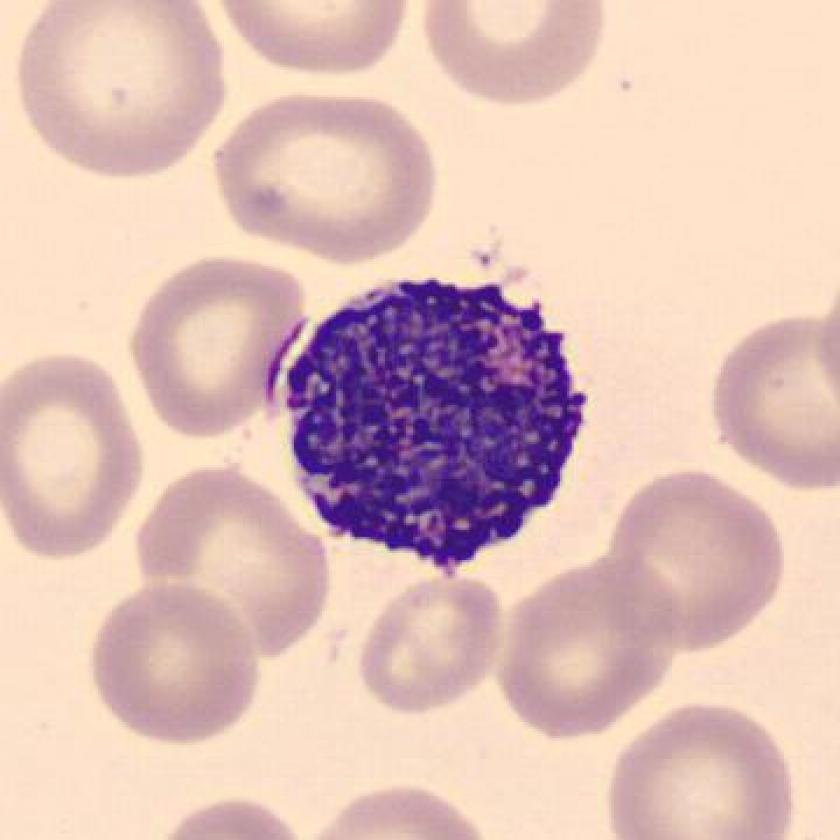basophil: (256, 262, 599, 582)
